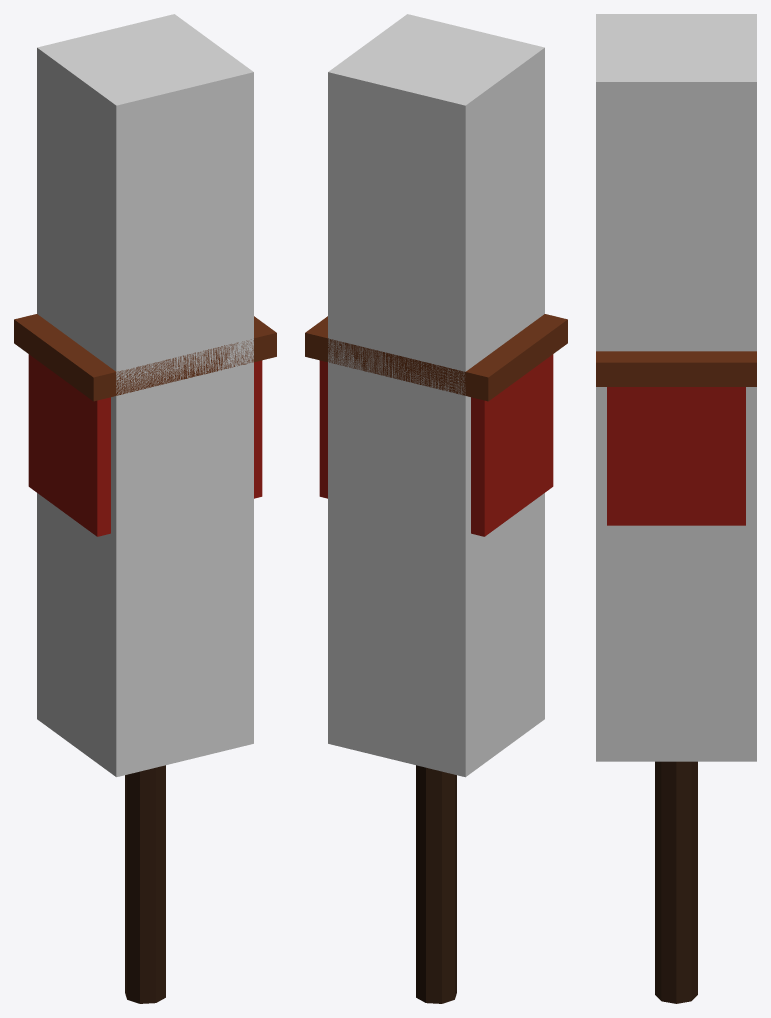
The model's file is Mailbox.fbx.
3 views of the same model, side by side, from view 1: azimuth 30°, elevation 25°; view 2: azimuth 150°, elevation 25°; view 3: azimuth 270°, elevation 25° (orthographic).
Parts seen in each view (by area): view 1: COL_Mailbox_0, Mailbox; view 2: COL_Mailbox_0, Mailbox; view 3: COL_Mailbox_0, Mailbox.
Boxes of the visible parts, <box> form: COL_Mailbox_0: <box>37,14,253,777</box>; Mailbox: <box>14,314,276,1003</box>; COL_Mailbox_0: <box>328,14,544,777</box>; Mailbox: <box>305,314,567,1003</box>; COL_Mailbox_0: <box>596,14,756,761</box>; Mailbox: <box>596,351,756,1003</box>.
Size of the model in its own units: 0.4 by 1.95 by 0.3.
